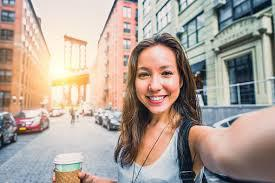face: (135, 45, 180, 114)
